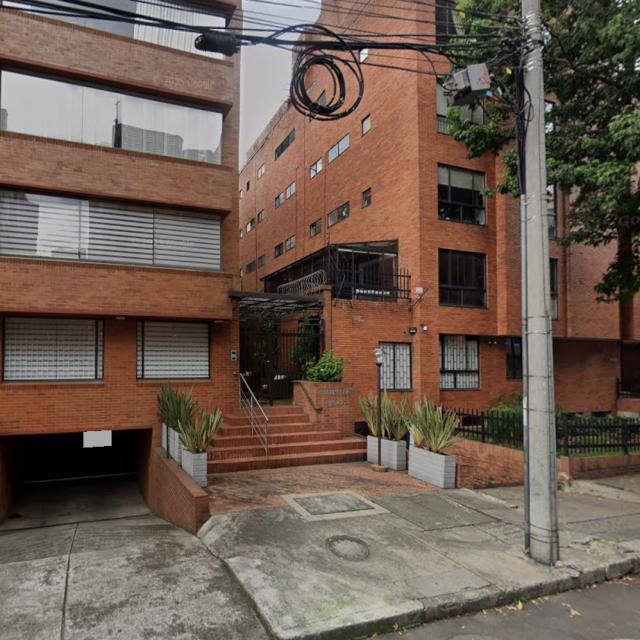fachada: (0, 0, 239, 520), (239, 50, 522, 410)
poste: (523, 0, 559, 564), (378, 364, 381, 466)
